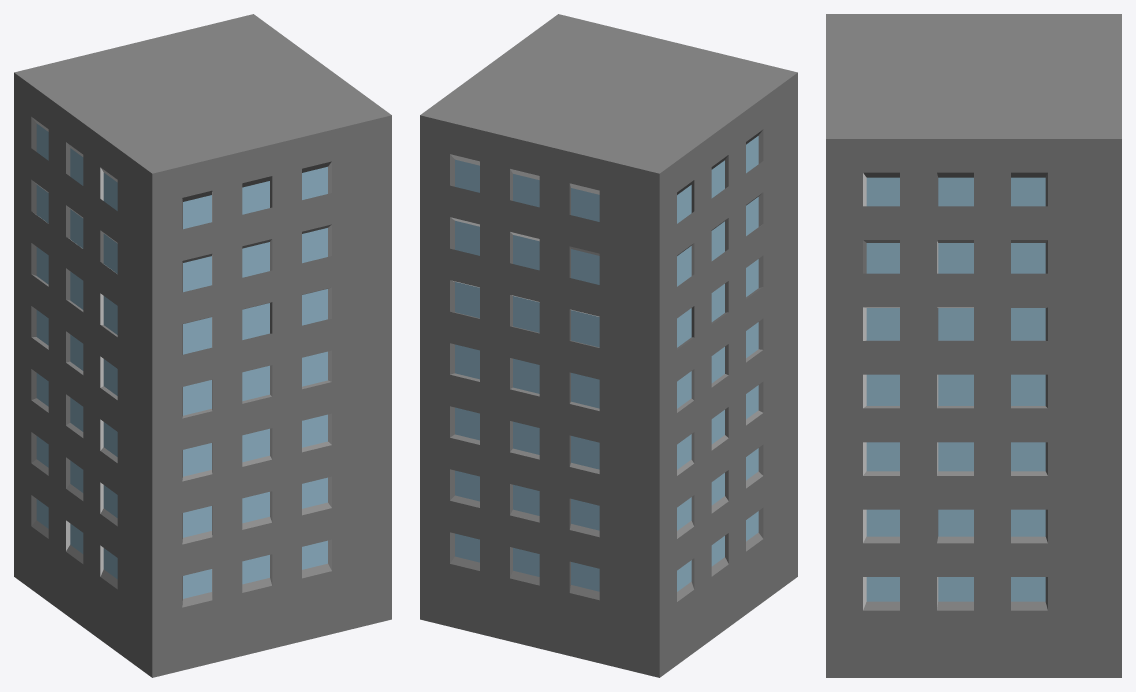
File: bill_model.fbx
3 views of the same model, side by side, from view 1: azimuth 30°, elevation 25°; view 2: azimuth 150°, elevation 25°; view 3: azimuth 270°, elevation 25° (orthographic). The views are drawn at different scales.
Parts seen in each view (by area): view 1: 平面.228; view 2: 平面.228; view 3: 平面.228.
Part boxes in pixels (bbox=[...]): 平面.228: bbox=[14, 14, 391, 677]; 平面.228: bbox=[420, 14, 797, 677]; 平面.228: bbox=[826, 14, 1121, 677].
Size of the model in its own units: 34.49 by 69.35 by 34.49.
